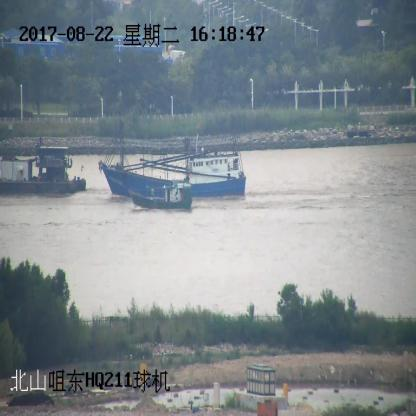Fishing Boat: (97, 119, 246, 201), (130, 177, 192, 210)
